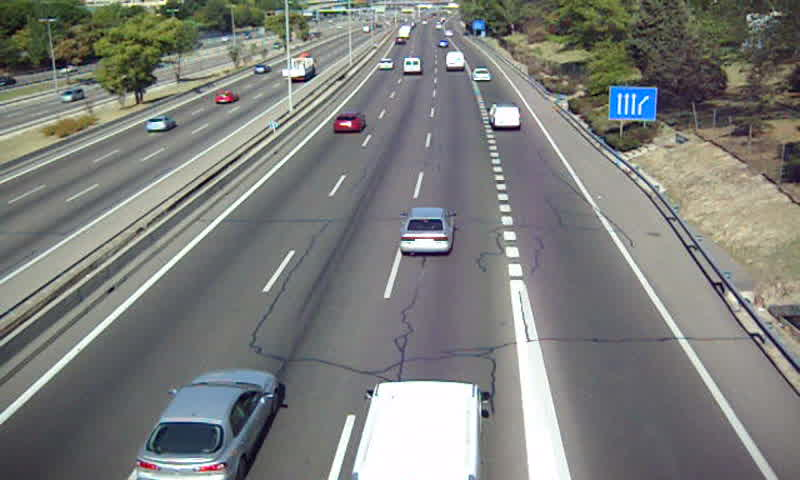car: (130, 370, 278, 480), (400, 207, 453, 256), (333, 113, 365, 133), (472, 66, 492, 82), (376, 57, 394, 70)
van: (352, 381, 482, 480), (491, 103, 520, 131), (445, 51, 465, 70), (402, 56, 422, 74)
